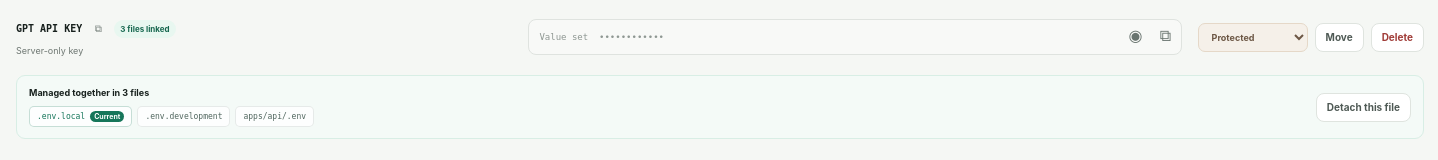
Scenario: VariableRow › reveals a value only after an explicit action
Check: the field showing "fake_preview_value" is not shown
Click the button titled "Show value · hides after 30 seconds of inactivity".
click(1136, 35)  # box [1121,20,1151,50]
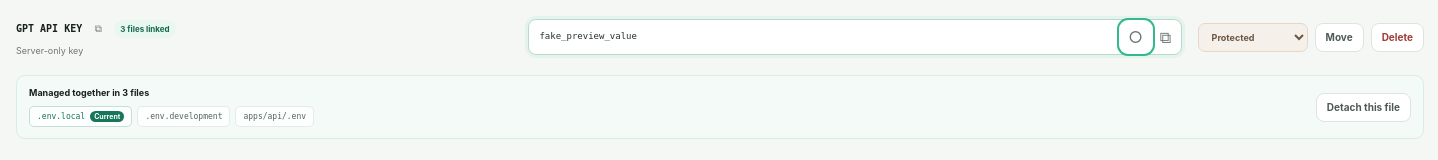
Check: the text box showing "fake_preview_value" is shown, box [529,20,1121,54]
